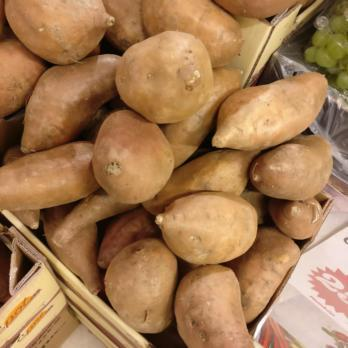Sweet potato: (0, 4, 207, 207), (45, 212, 279, 348), (201, 69, 332, 243)
